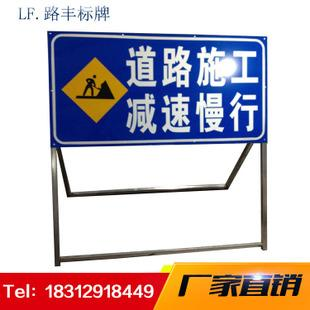sign: (49, 35, 269, 141)
